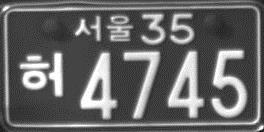3: (139, 11, 166, 47)
4: (78, 50, 119, 121), (165, 50, 205, 119)
5: (210, 49, 248, 119), (170, 10, 194, 46)
7: (122, 50, 161, 120)
서울_O: (74, 12, 134, 43)
허: (18, 52, 65, 99)
